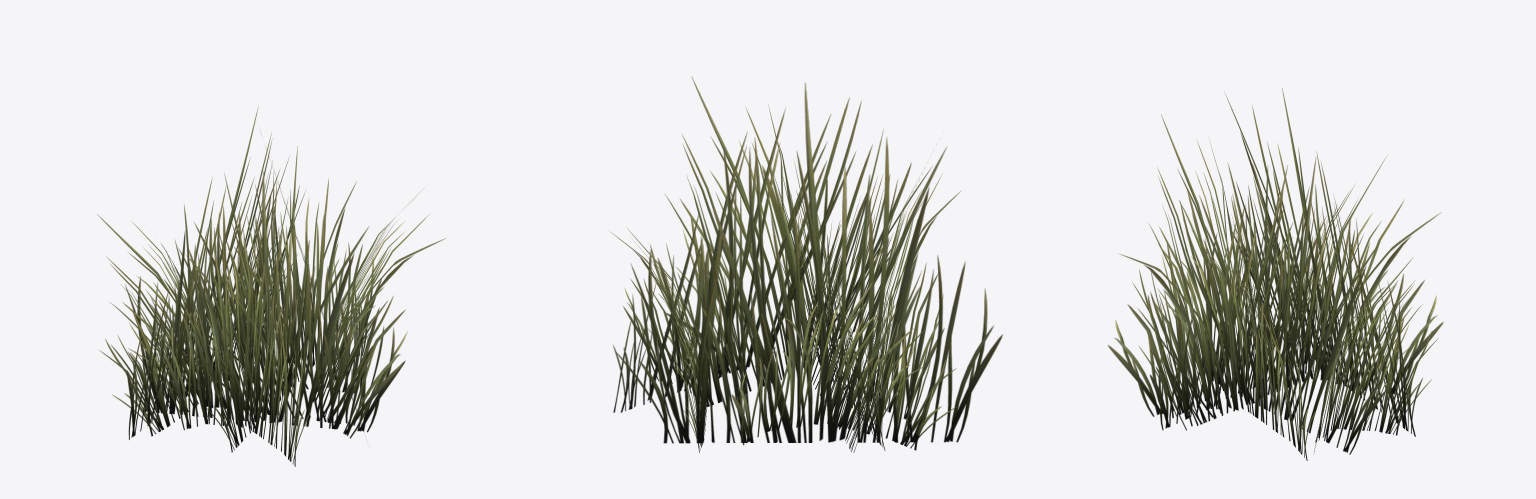
The model's file is grass_patch_01.glb.
3 renders of one model, left to right at view 1: azimuth 30°, elevation 25°; view 2: azimuth 150°, elevation 25°; view 3: azimuth 270°, elevation 25°, orthographic. The views are drawn at different scales.
Parts seen in each view (by area): view 1: GrassPatch01_LOD0; view 2: GrassPatch01_LOD0; view 3: GrassPatch01_LOD0.
Part boxes in pixels (left/top/right/bottom): GrassPatch01_LOD0: left=97, top=106, right=446, bottom=466; GrassPatch01_LOD0: left=611, top=76, right=1002, bottom=452; GrassPatch01_LOD0: left=1108, top=88, right=1443, bottom=460.
Size of the model in its own units: 0.4927 by 0.3812 by 0.4448.
Materials: 1 (1 with a texture image).
